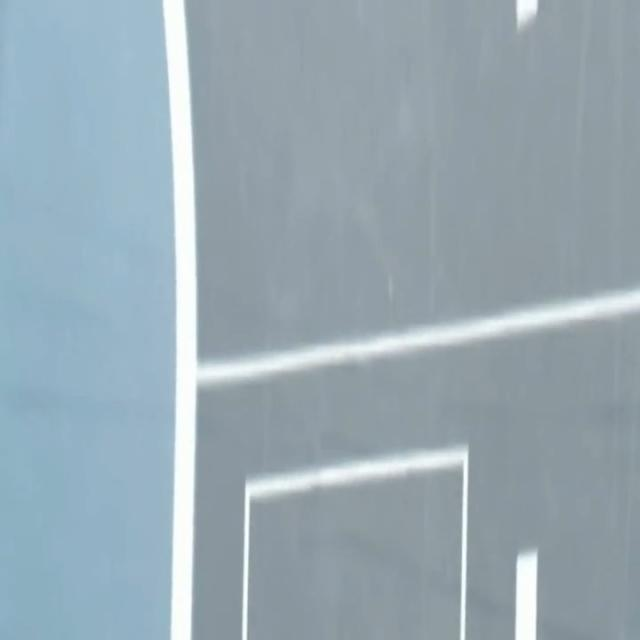center: (515, 549, 536, 639), (516, 0, 538, 28)
left: (163, 0, 196, 639)
